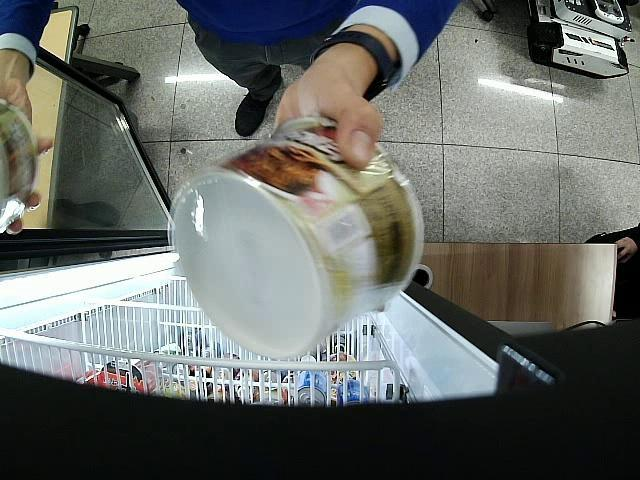03_chapagetti_L: (169, 112, 423, 360), (0, 98, 39, 231)
